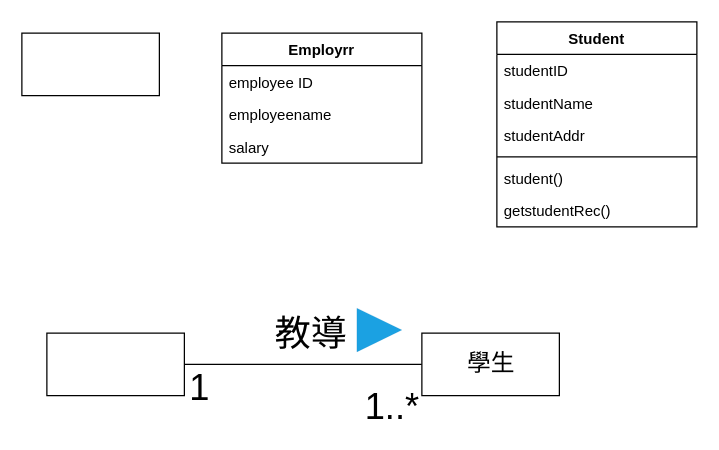
Some shapes in this 719 by 450 pixel diagram are drawn without their labels. Each missing label, with the centre of its shape:
Customer: (x=90, y=64)
老師: (x=115, y=364)
